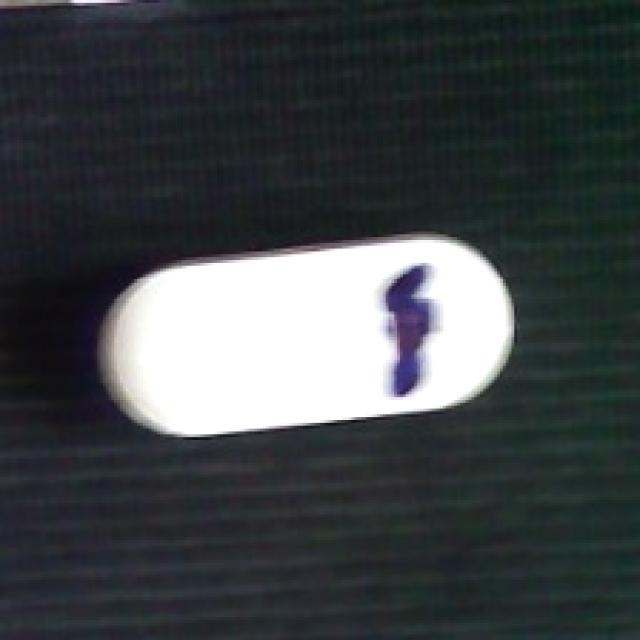defected: (88, 232, 523, 437)
